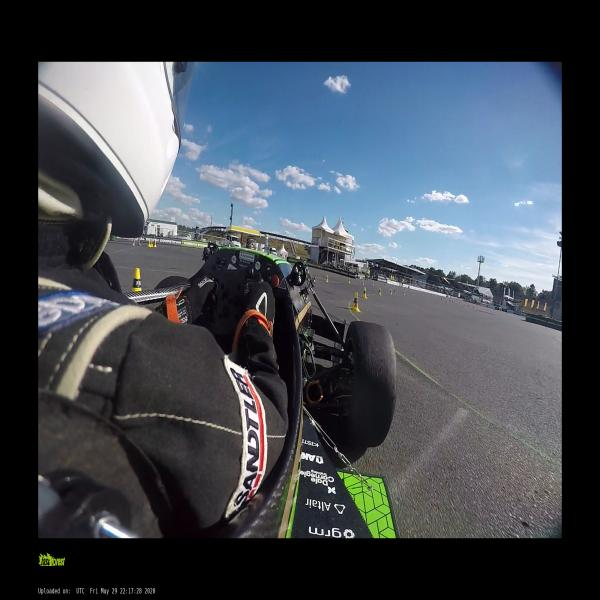yellow_cone: (132, 268, 142, 292), (350, 292, 361, 312), (362, 288, 367, 298), (325, 275, 328, 283), (378, 288, 381, 294), (389, 289, 392, 295), (148, 241, 151, 247), (393, 289, 396, 295), (348, 278, 350, 284), (151, 241, 153, 247), (154, 241, 156, 247), (403, 291, 405, 296), (362, 281, 364, 285), (427, 295, 429, 299), (372, 282, 374, 285), (412, 292, 413, 296)
